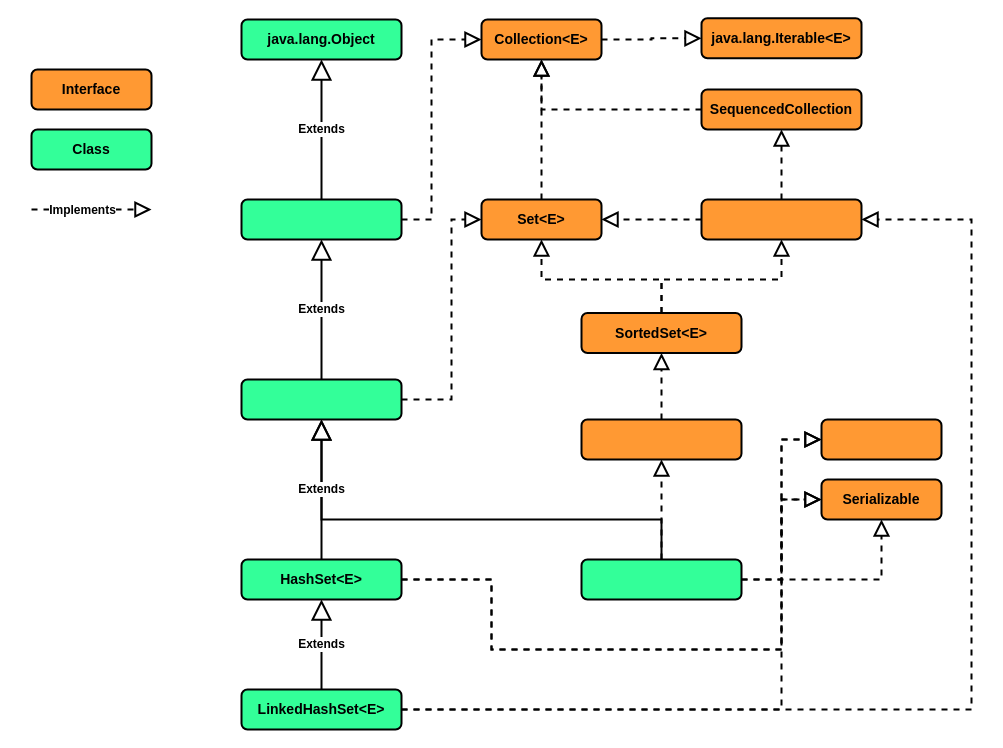
Image size: 1003x748. Some labels were removed from this diagram. Here are the shapes that lost their labels. From the top down, the box of each, then its label:
(240, 198, 402, 240): AbstractCollection<E>
(700, 198, 862, 240): SequencedSet<E>
(240, 378, 402, 420): AbstractSet<E>
(580, 418, 742, 460): NavigableSet<E>
(820, 418, 942, 460): Cloneable
(580, 558, 742, 600): TreeSet<E>
